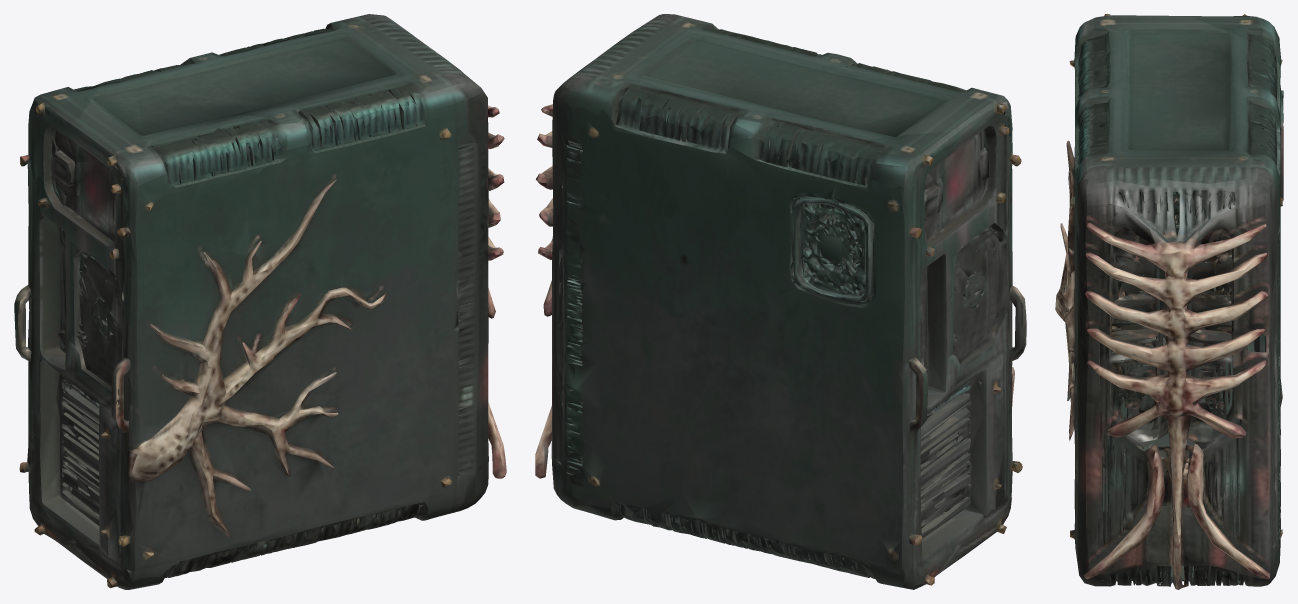
Rendered from computer-optimized.glb.
3 renders of one model, left to right at view 1: azimuth 30°, elevation 25°; view 2: azimuth 150°, elevation 25°; view 3: azimuth 270°, elevation 25°, orthographic. The views are drawn at different scales.
Visible parts, largest first — view 1: geometry_0; view 2: geometry_0; view 3: geometry_0.
Part boxes in pixels (x1,y1,x2,y2): geometry_0: (14,14,506,589); geometry_0: (535,14,1026,589); geometry_0: (1055,14,1283,589).
Size of the model in its own units: 0.4984 by 0.4997 by 0.2479.
Materials: 1 (1 with a texture image).
